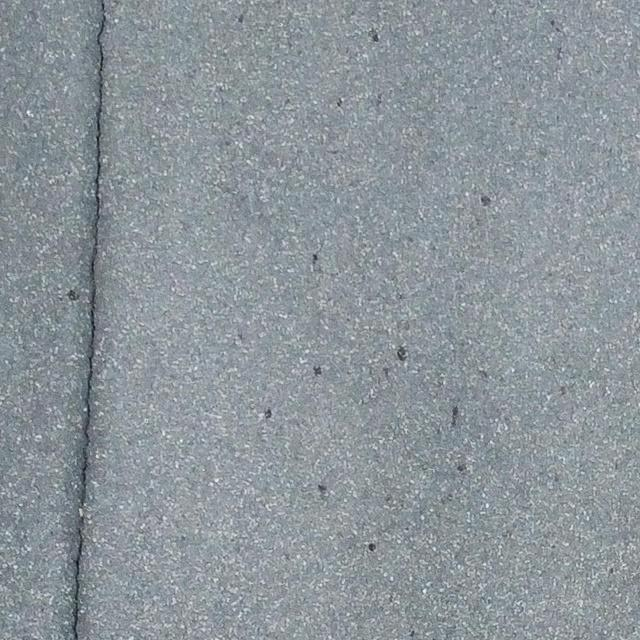LongitudinalCrack: (68, 2, 110, 640)
